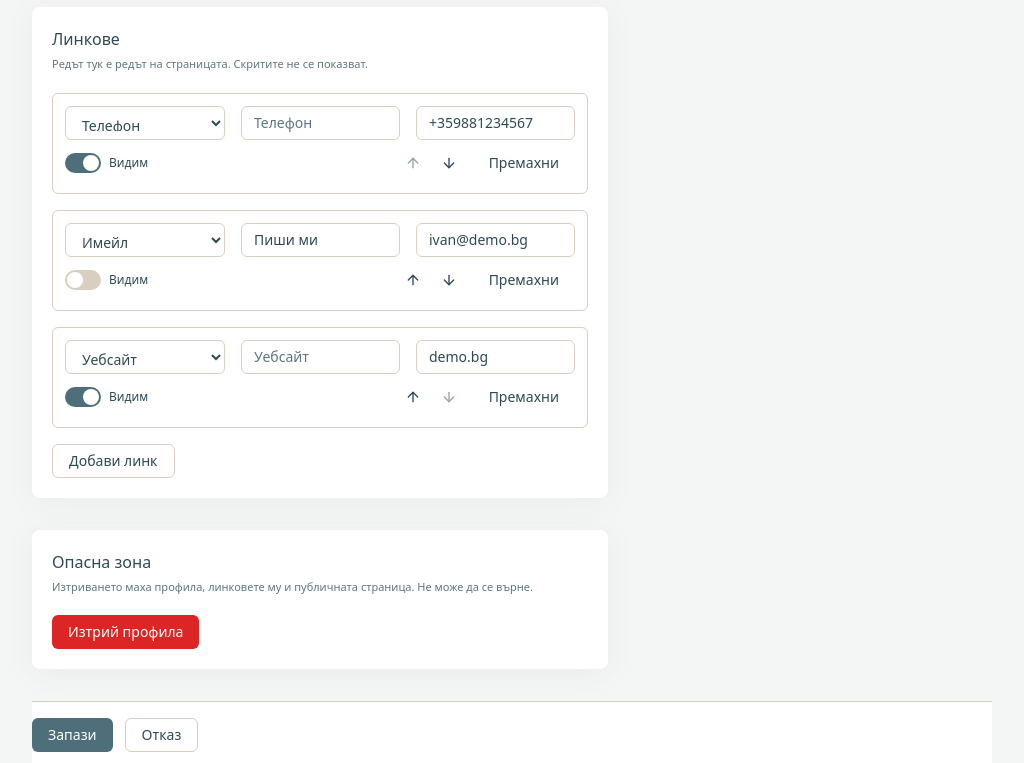
it: ProfileEditor › shows the action failure as an alert
The image size is (1024, 763).
(page scrolled)
Click the button "Запази" at (72, 735), box [32,718,112,752]
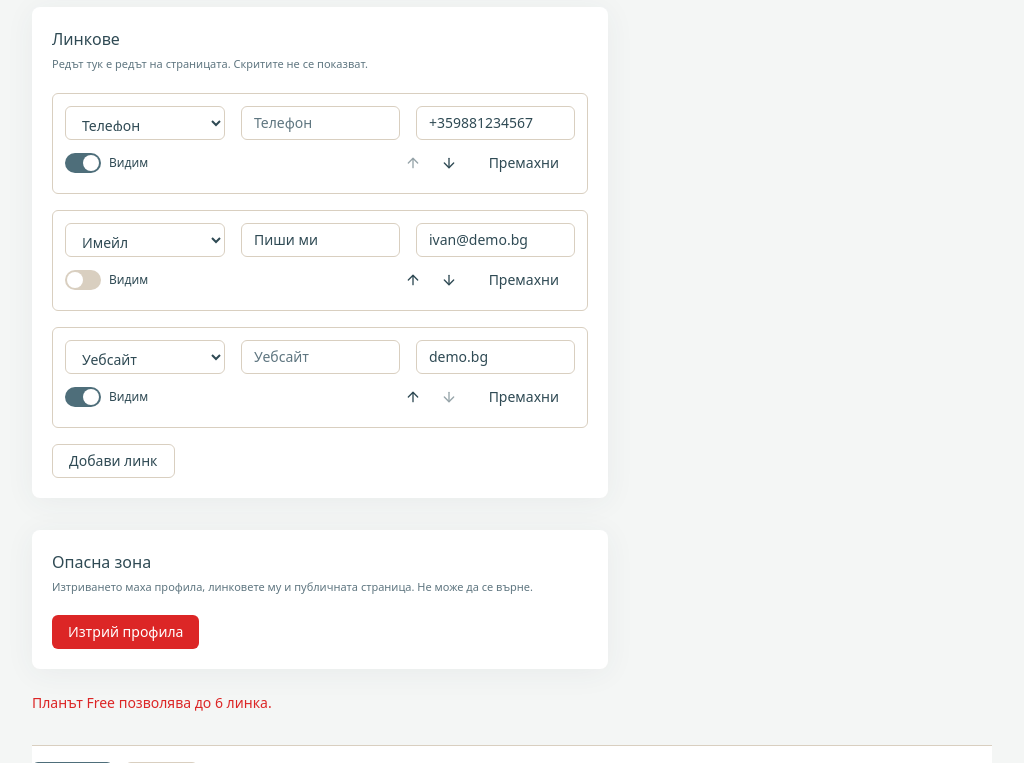
Check: the message reads "Планът Free позволява до 6 линка.", box [32,693,272,712]
